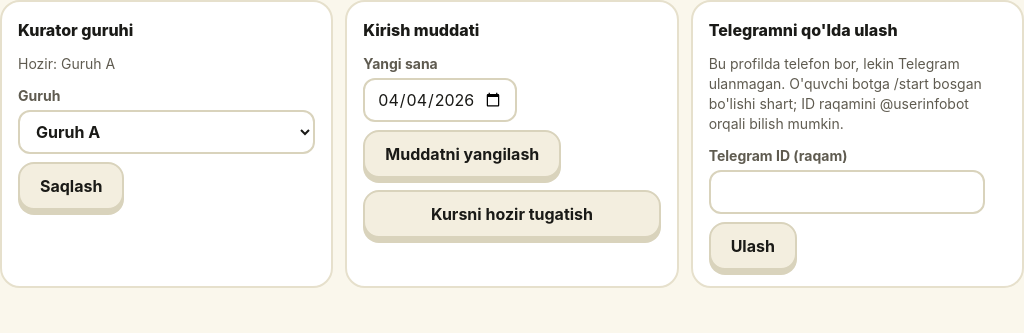
Test: StudentActions › manual Telegram link is offered only for a profile with a phone and no telegram
Type "123456789" into the field labelled "Telegram ID (raqam)" at (847, 192), box top-left (709, 170), bottom-right (985, 214)
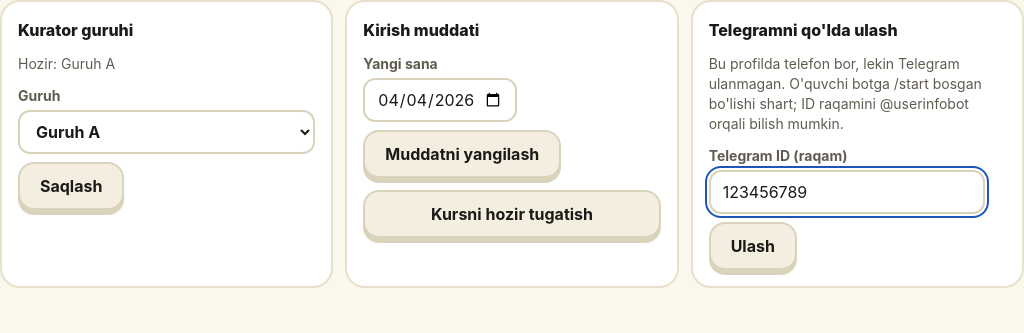
Click the button "Ulash" at (753, 246), box top-left (709, 222), bottom-right (797, 270)
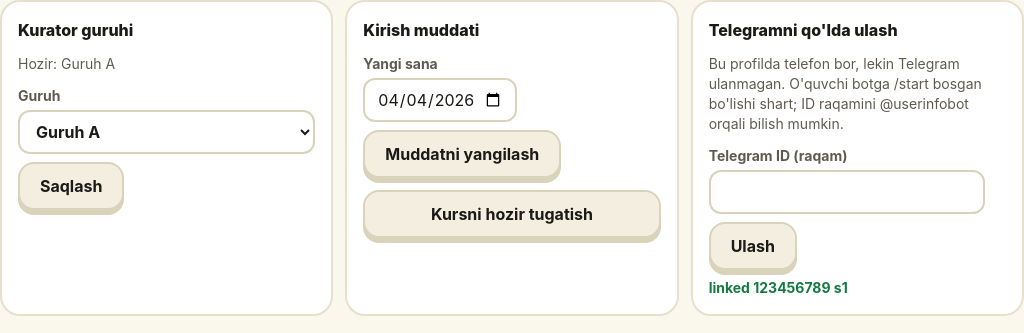
Expected: the text "linked 123456789 s1" is shown, top-left (709, 279), bottom-right (848, 296)
